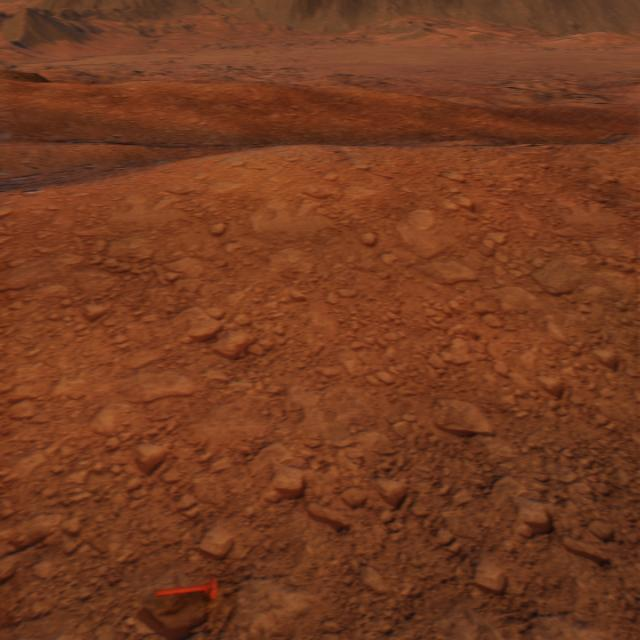newhammer: (155, 572, 217, 600)
